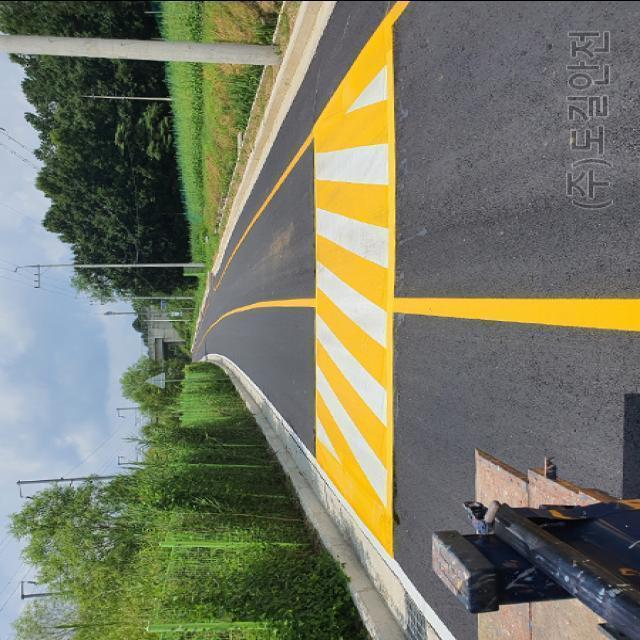speedbreaker: (318, 16, 410, 570)
